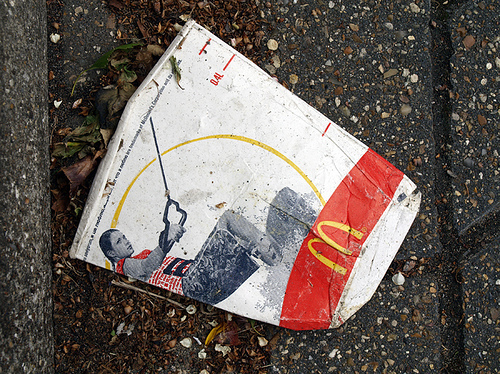litter: (68, 18, 420, 331)
